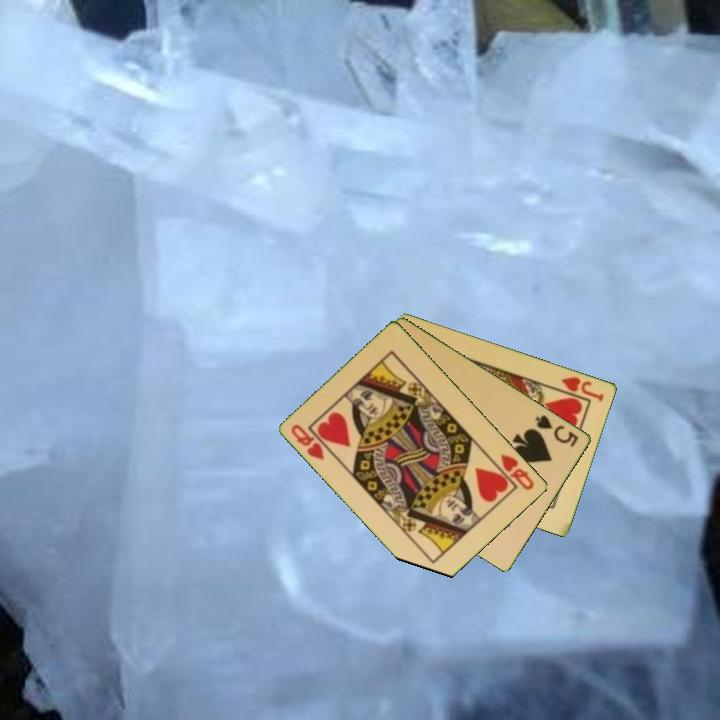5s: (532, 411, 582, 450)
Jh: (558, 373, 607, 404)
Qh: (497, 450, 537, 493), (288, 420, 328, 463)
